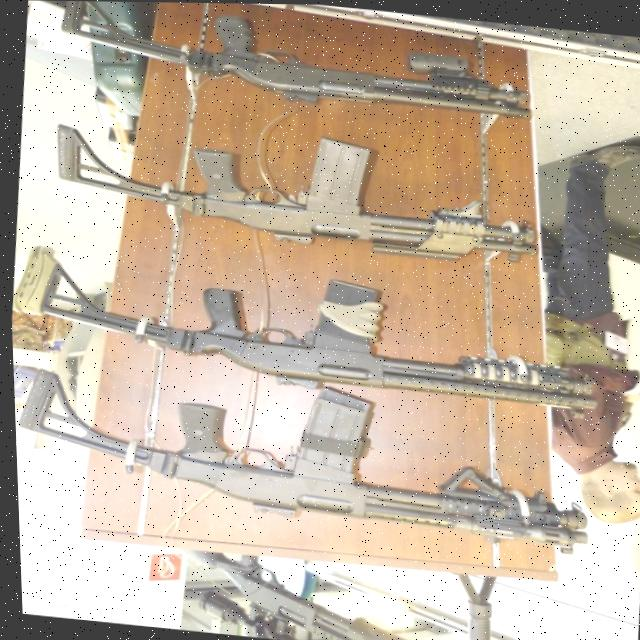firearm: (10, 358, 595, 556), (7, 240, 604, 410), (47, 109, 542, 266), (55, 1, 538, 121)
